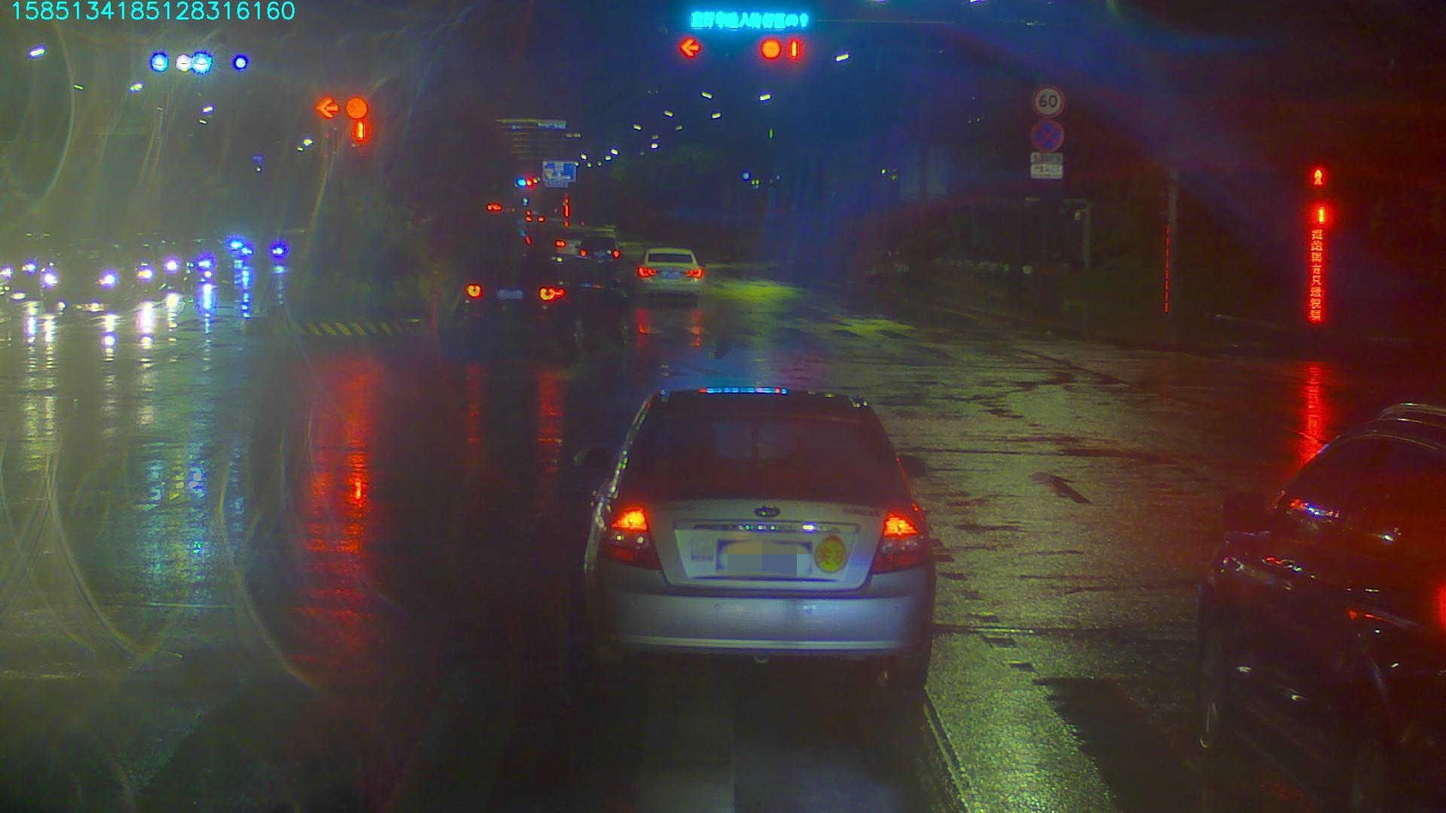red: (764, 34, 804, 62), (674, 35, 700, 64)
wait_on: (677, 9, 819, 33)
